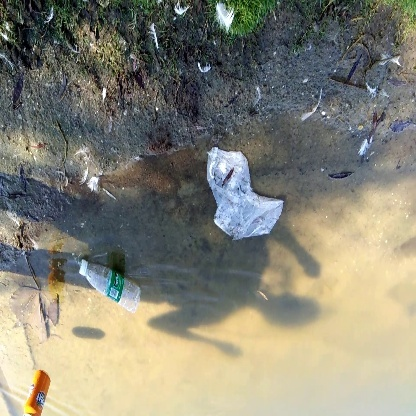plastic-bag: (206, 145, 287, 244)
